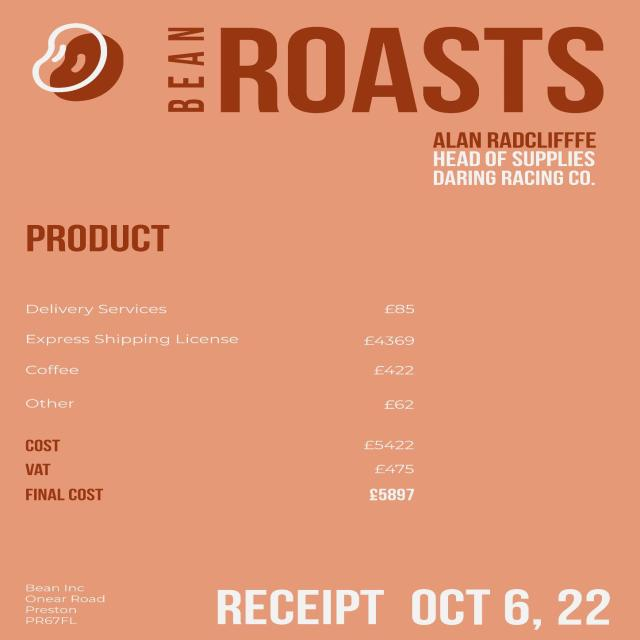paragraph: (18, 212, 446, 418), (154, 17, 620, 119), (12, 433, 451, 518), (191, 582, 621, 632), (408, 128, 613, 196), (18, 19, 140, 108), (2, 573, 125, 639)
